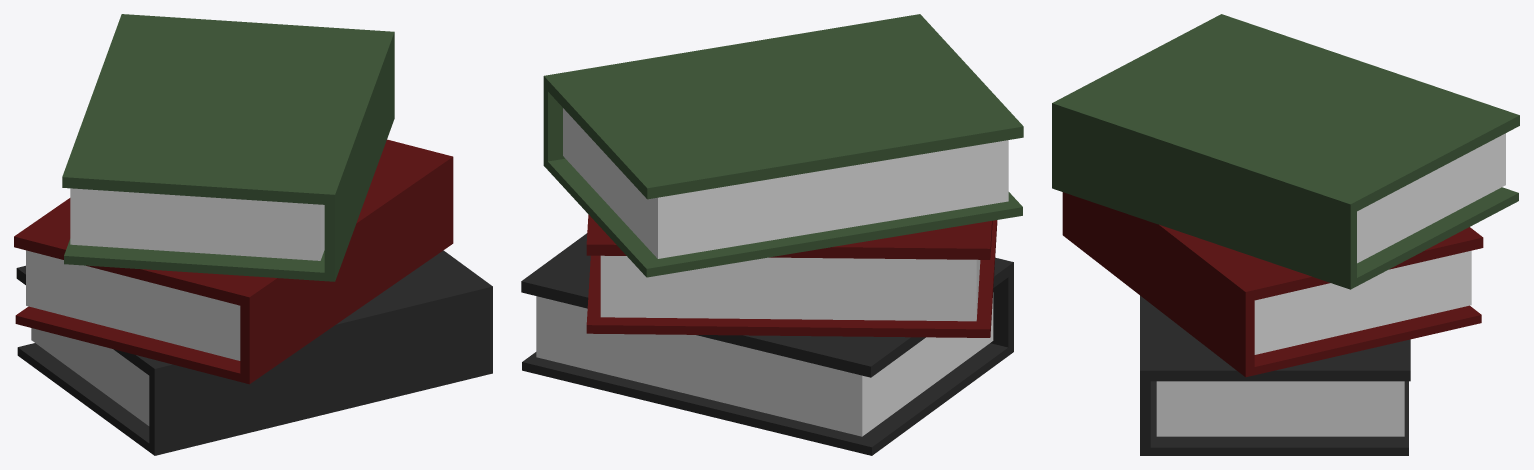
The model's file is StackOfBooks.fbx.
3 renders of one model, left to right at view 1: azimuth 30°, elevation 25°; view 2: azimuth 150°, elevation 25°; view 3: azimuth 270°, elevation 25°, orthographic. The views are drawn at different scales.
Parts seen in each view (by area): view 1: pCube13 (×3), pCube12 (×3); view 2: pCube13 (×3), pCube12 (×3); view 3: pCube13 (×3), pCube12 (×3).
Part boxes in pixels (bbox=[...]): pCube13 (×3): bbox=[14, 14, 492, 455]; pCube12 (×3): bbox=[26, 188, 324, 425]; pCube13 (×3): bbox=[521, 14, 1023, 455]; pCube12 (×3): bbox=[536, 108, 1008, 436]; pCube13 (×3): bbox=[1052, 14, 1519, 455]; pCube12 (×3): bbox=[1156, 133, 1505, 436].
Size of the model in its own units: 3.61 by 2.19 by 3.62.
